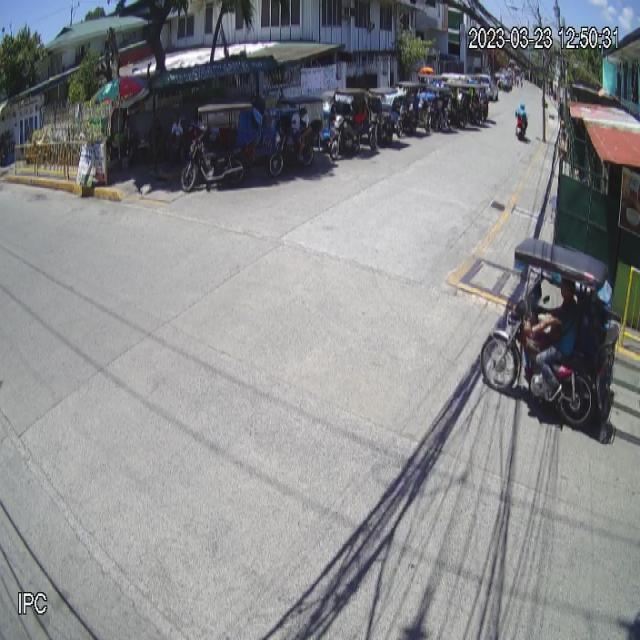Tricycle: (479, 239, 621, 432)
